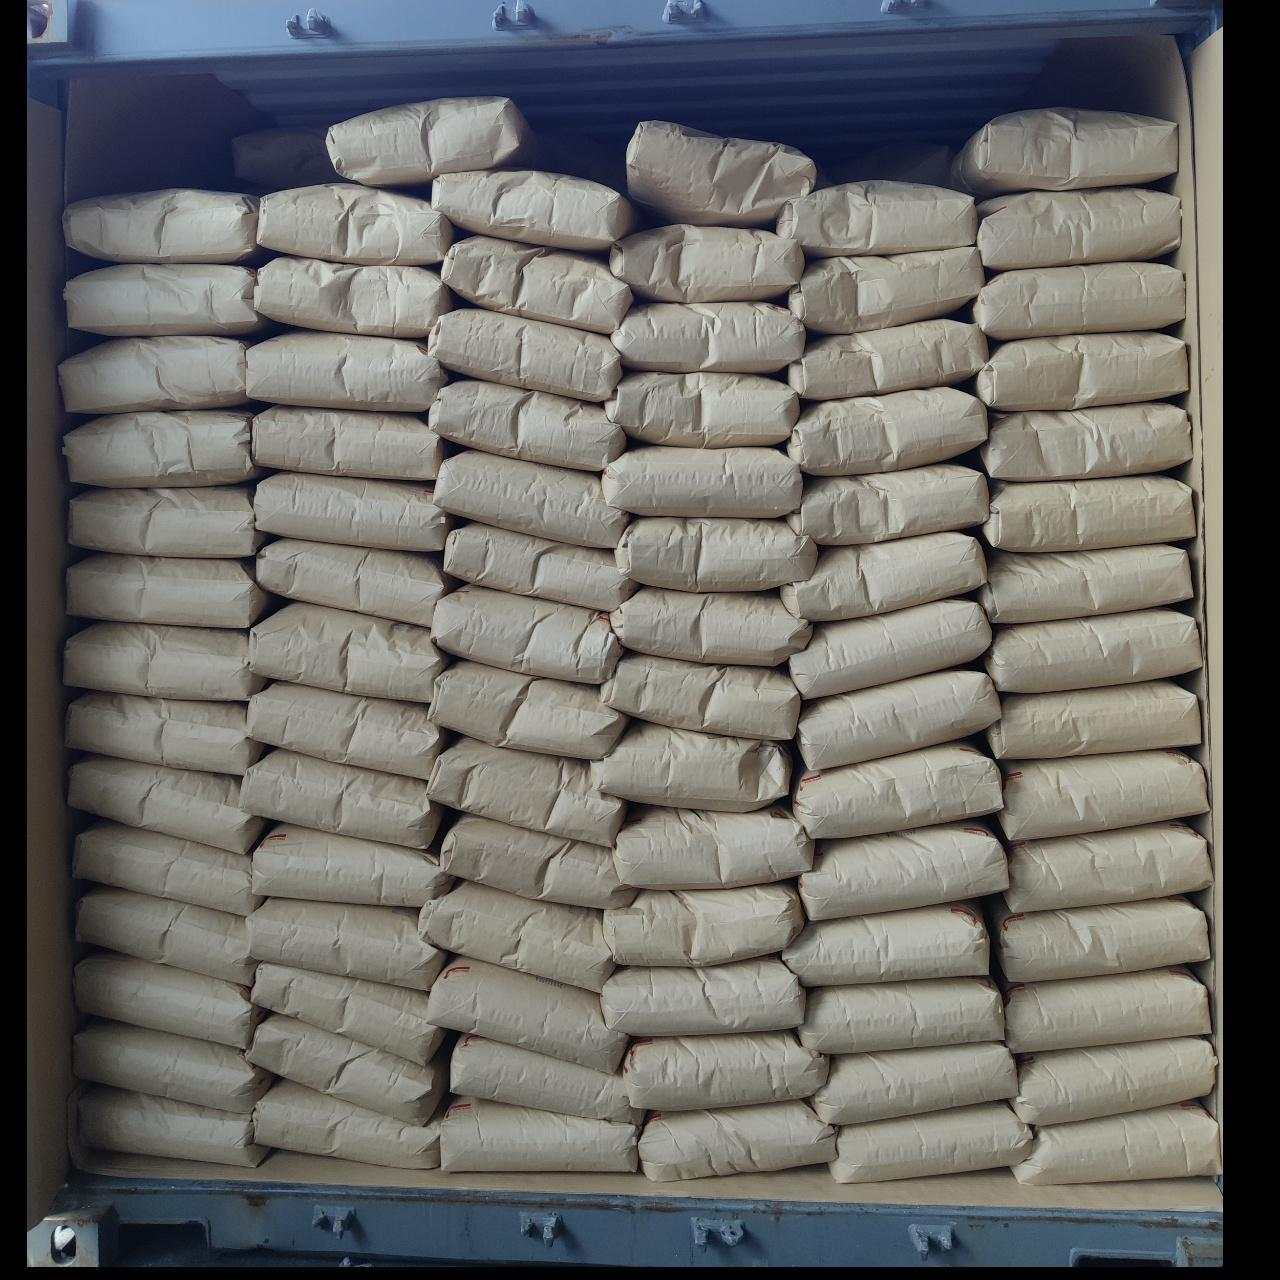sack: (428, 958, 624, 1070), (420, 881, 614, 990), (248, 1016, 445, 1122), (430, 736, 622, 844), (794, 740, 1002, 838), (799, 821, 1006, 918), (240, 750, 445, 846), (798, 670, 998, 768), (430, 660, 626, 758), (626, 122, 813, 224), (248, 604, 445, 700), (790, 600, 990, 694), (954, 110, 1175, 195), (436, 450, 628, 546), (248, 682, 445, 776), (433, 586, 622, 682), (1000, 750, 1206, 838), (254, 964, 442, 1060), (994, 898, 1206, 982), (1006, 822, 1208, 910), (444, 236, 629, 332), (983, 610, 1200, 692), (248, 898, 445, 988), (74, 952, 263, 1046), (70, 756, 264, 847), (440, 816, 629, 908), (1012, 1039, 1216, 1124), (74, 1022, 272, 1110), (592, 722, 790, 810), (430, 380, 622, 470), (430, 308, 622, 399), (74, 821, 263, 912), (328, 98, 524, 186), (782, 535, 982, 620), (76, 886, 254, 982), (976, 188, 1180, 270), (1006, 968, 1206, 1051), (986, 680, 1198, 758), (812, 1042, 1014, 1124), (602, 654, 798, 738), (445, 524, 636, 610), (784, 903, 988, 982), (614, 804, 812, 886), (606, 881, 804, 964), (972, 263, 1182, 340), (978, 402, 1190, 478), (978, 546, 1190, 622), (788, 388, 983, 470), (258, 540, 454, 622), (624, 1032, 828, 1110), (790, 248, 982, 332), (68, 692, 263, 774), (1014, 1104, 1220, 1182), (256, 1080, 438, 1166), (252, 824, 454, 903), (832, 1102, 1030, 1182), (788, 320, 988, 399), (452, 1036, 638, 1121), (602, 956, 804, 1034), (434, 172, 634, 250), (976, 332, 1186, 406), (248, 332, 445, 410), (986, 476, 1194, 550), (788, 464, 986, 542), (258, 184, 452, 263), (66, 622, 263, 700), (642, 1099, 835, 1178), (68, 554, 272, 628), (256, 474, 452, 550), (256, 258, 452, 334), (799, 978, 1002, 1051), (80, 1088, 266, 1166), (612, 226, 802, 302), (66, 410, 256, 486), (614, 588, 808, 662), (778, 182, 974, 254), (606, 372, 798, 445), (440, 1098, 638, 1170), (66, 264, 266, 334), (617, 518, 813, 590), (64, 190, 258, 263), (60, 336, 246, 411), (604, 445, 798, 516), (254, 406, 442, 478), (70, 486, 263, 556), (614, 302, 802, 372)
